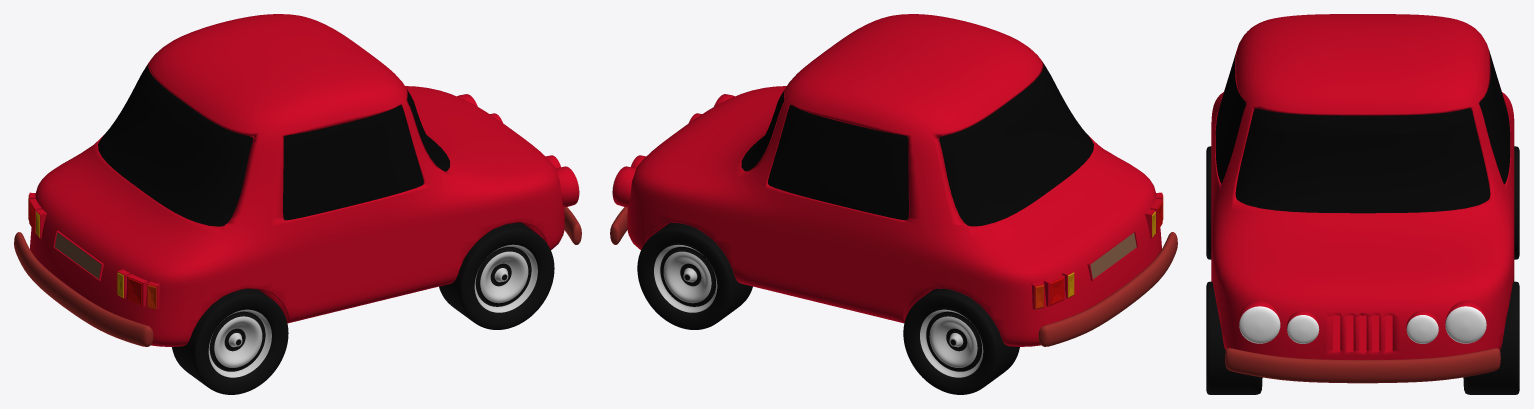
The model's file is 卡通轿车.obj.
3 views of the same model, side by side, from view 1: azimuth 30°, elevation 25°; view 2: azimuth 150°, elevation 25°; view 3: azimuth 270°, elevation 25° (orthographic). The views are drawn at different scales.
Visible parts, largest first — view 1: Body_Cube, Cube.003_Cube.004, Cylinder.004, Cylinder.005, Cube.004_Cube.005, Cube.012_Cube.013, Sphere, Cube.010_Cube.011, Cube.011_Cube.012; view 2: Body_Cube, Cube.003_Cube.004, Cylinder.006, Cylinder.007, Cube.004_Cube.005, Cube.012_Cube.013, Sphere, Cube.010_Cube.011, Cube.011_Cube.012; view 3: Body_Cube, Cube.003_Cube.004, Cube.005_Cube.006, Sphere, Cylinder.007, Cylinder.005, Sphere.001, Cylinder.004, Cylinder.006.
Boxes of the visible parts, x1,y1,x2,y2 form: Body_Cube: [30, 14, 564, 346]; Cube.003_Cube.004: [98, 64, 449, 226]; Cylinder.004: [172, 288, 288, 394]; Cylinder.005: [439, 222, 554, 329]; Cube.004_Cube.005: [14, 232, 153, 346]; Cube.012_Cube.013: [53, 230, 103, 280]; Sphere: [457, 94, 579, 207]; Cube.010_Cube.011: [29, 198, 148, 306]; Cube.011_Cube.012: [35, 209, 129, 298]; Body_Cube: [627, 14, 1161, 346]; Cube.003_Cube.004: [741, 64, 1093, 226]; Cylinder.006: [903, 288, 1019, 394]; Cylinder.007: [637, 223, 752, 329]; Cube.004_Cube.005: [1038, 232, 1177, 346]; Cube.012_Cube.013: [1087, 231, 1138, 280]; Sphere: [612, 94, 734, 207]; Cube.010_Cube.011: [1043, 198, 1162, 306]; Cube.011_Cube.012: [1061, 209, 1155, 298]; Body_Cube: [1211, 14, 1514, 359]; Cube.003_Cube.004: [1215, 50, 1510, 213]; Cube.005_Cube.006: [1225, 348, 1500, 383]; Sphere: [1238, 300, 1486, 343]; Cylinder.007: [1463, 281, 1519, 394]; Cylinder.005: [1206, 281, 1262, 394]; Sphere.001: [1286, 311, 1438, 343]; Cylinder.004: [1206, 146, 1211, 259]; Cylinder.006: [1514, 146, 1519, 259].
Size of the model in its own units: 4.77 by 2.52 by 2.63.
